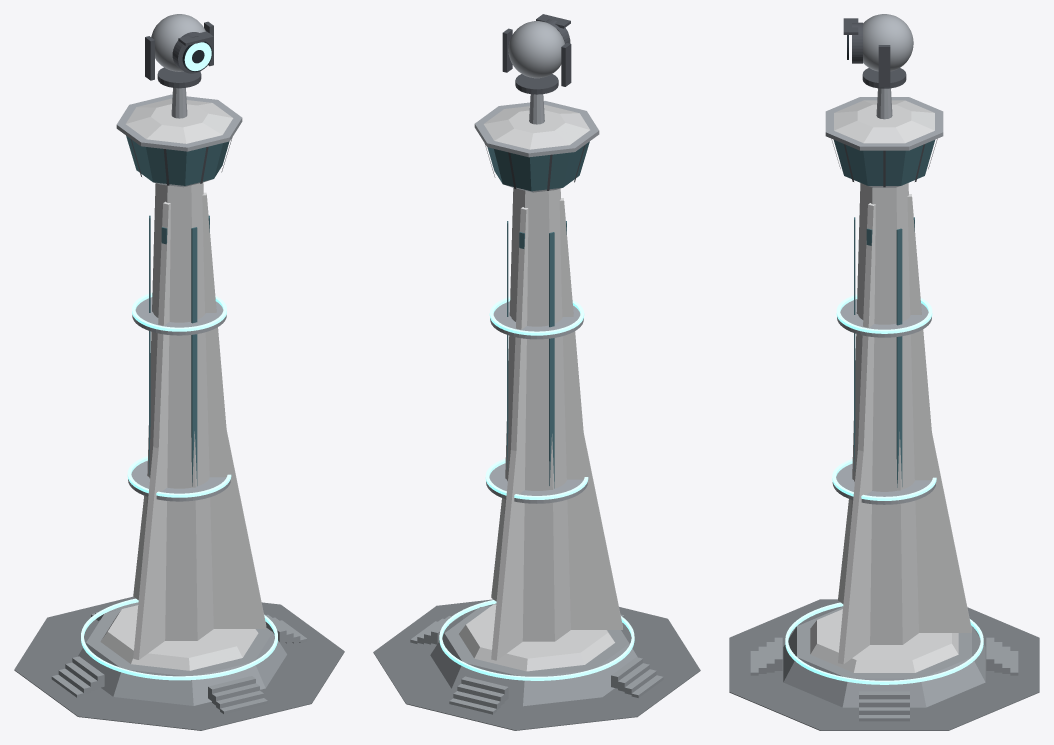
The model's file is vigia.glb.
3 views of the same model, side by side, from view 1: azimuth 30°, elevation 25°; view 2: azimuth 150°, elevation 25°; view 3: azimuth 270°, elevation 25° (orthographic).
Visible parts, largest first — view 1: VG_Fuste, VG_Plaza, VG_Aleta_2, VG_Aleta_1, VG_Basamento, VG_Basamento2, VG_Cubierta, VG_CabVidrio, VG_Marquesina, VG_Ventanal_4, VG_Esfera, VG_AnilloBase (+6 smaller); view 2: VG_Fuste, VG_Plaza, VG_Aleta_1, VG_Aleta_0, VG_Basamento, VG_Basamento2, VG_Cubierta, VG_CabVidrio, VG_Esfera, VG_Marquesina, VG_AnilloBase, VG_Ventanal_2 (+6 smaller); view 3: VG_Fuste, VG_Plaza, VG_Aleta_0, VG_Aleta_2, VG_Basamento, VG_Basamento2, VG_Cubierta, VG_CabVidrio, VG_Esfera, VG_Marquesina, VG_Ventanal_0, VG_AnilloBase (+7 smaller).
Boxes of the visible parts, box(x1,y1,x2,y2) form: VG_Fuste: box(146, 182, 213, 640); VG_Plaza: box(14, 596, 344, 730); VG_Aleta_2: box(202, 192, 266, 628); VG_Aleta_1: box(133, 201, 170, 659); VG_Basamento: box(78, 609, 286, 705); VG_Basamento2: box(100, 605, 258, 670); VG_Cubierta: box(126, 98, 233, 143); VG_CabVidrio: box(126, 135, 229, 185); VG_Marquesina: box(116, 94, 242, 151); VG_Ventanal_4: box(191, 227, 197, 486); VG_Esfera: box(151, 14, 205, 71); VG_AnilloBase: box(81, 598, 277, 680); VG_Fuste: box(504, 188, 570, 641); VG_Plaza: box(373, 599, 700, 730); VG_Aleta_1: box(559, 198, 622, 629); VG_Aleta_0: box(491, 207, 528, 660); VG_Basamento: box(430, 606, 637, 706); VG_Basamento2: box(459, 604, 614, 671); VG_Cubierta: box(484, 104, 589, 149); VG_CabVidrio: box(487, 141, 589, 191); VG_Esfera: box(508, 21, 564, 78); VG_Marquesina: box(474, 101, 599, 157); VG_AnilloBase: box(439, 600, 634, 680); VG_Ventanal_2: box(549, 232, 554, 488); VG_Fuste: box(851, 183, 918, 644); VG_Plaza: box(729, 599, 1039, 730); VG_Aleta_0: box(907, 194, 971, 632); VG_Aleta_2: box(838, 203, 875, 664); VG_Basamento: box(783, 607, 985, 707); VG_Basamento2: box(810, 609, 958, 672); VG_Cubierta: box(834, 100, 934, 143); VG_CabVidrio: box(834, 140, 934, 185); VG_Esfera: box(863, 14, 913, 71); VG_Marquesina: box(825, 97, 943, 150); VG_Ventanal_0: box(896, 228, 902, 487); VG_AnilloBase: box(785, 602, 983, 684).
Size of the model in its own units: 85 by 196 by 85.
